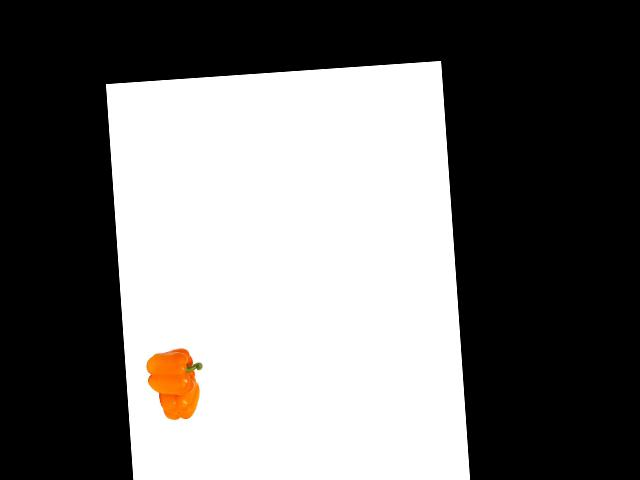bell_pepper: (152, 377, 203, 424)
